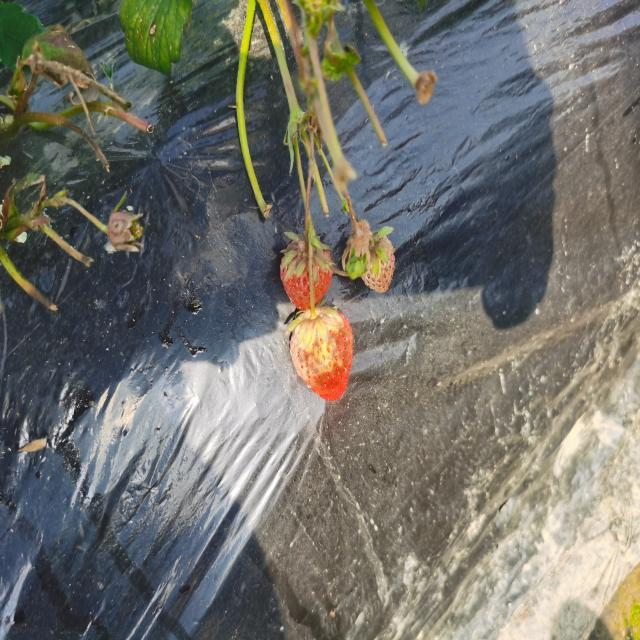stem: (309, 265, 317, 321), (305, 216, 308, 255)
strawberry: (290, 307, 353, 401), (279, 235, 333, 309)
